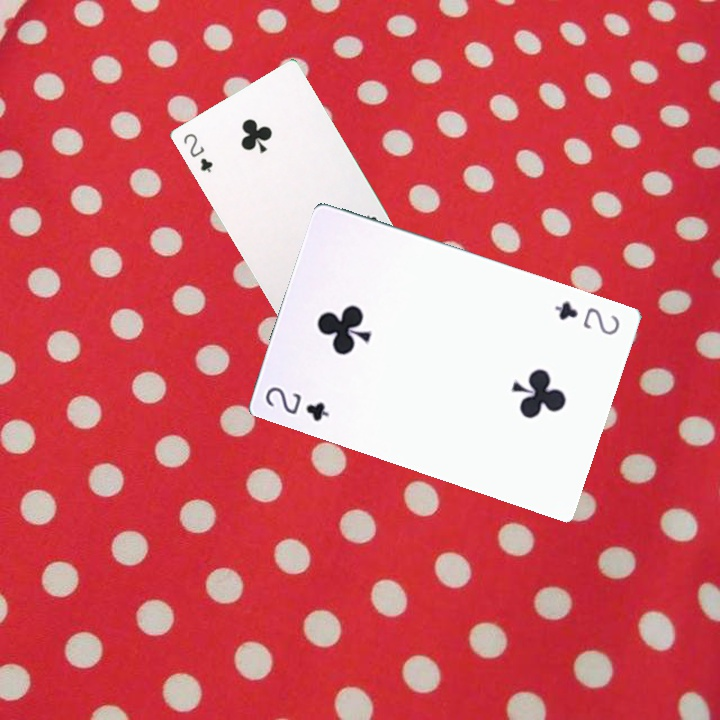2c: (550, 296, 623, 338), (261, 382, 333, 424), (179, 129, 215, 175)
